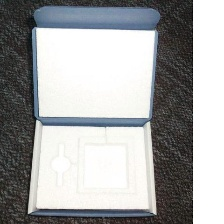foam_box: (32, 24, 157, 121), (32, 121, 152, 213)
